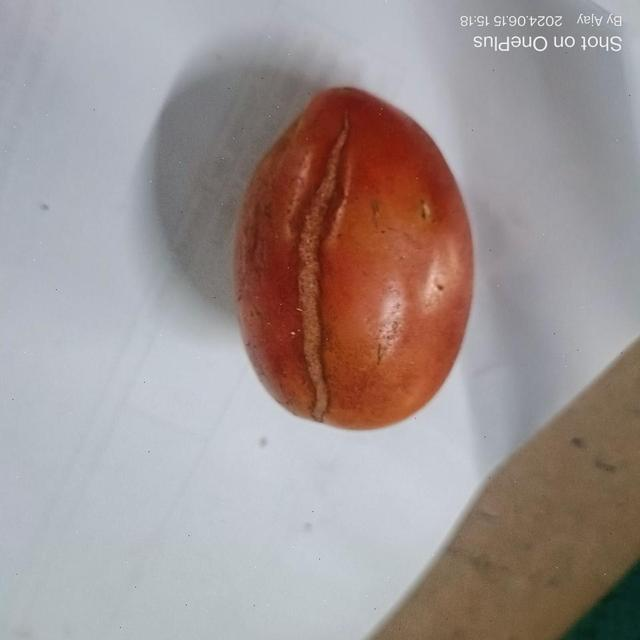Cracking Fruit: (102, 151, 320, 423)
